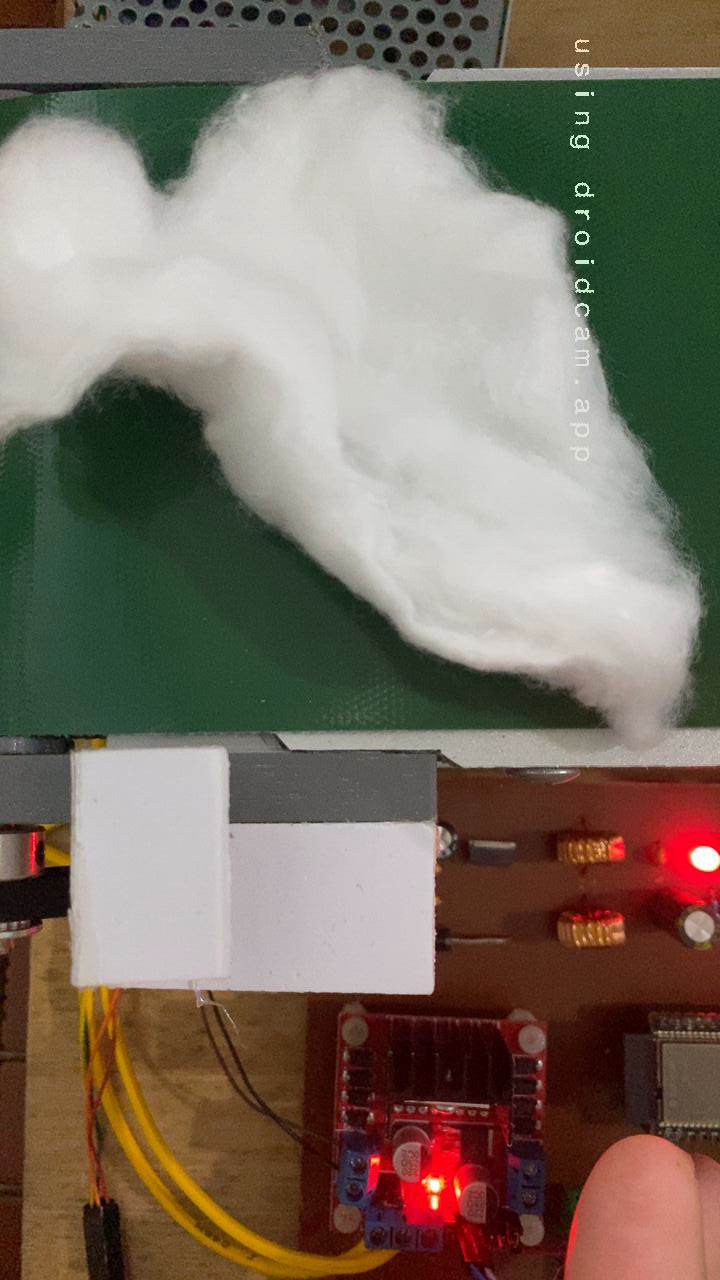cotton: (0, 81, 711, 730)
